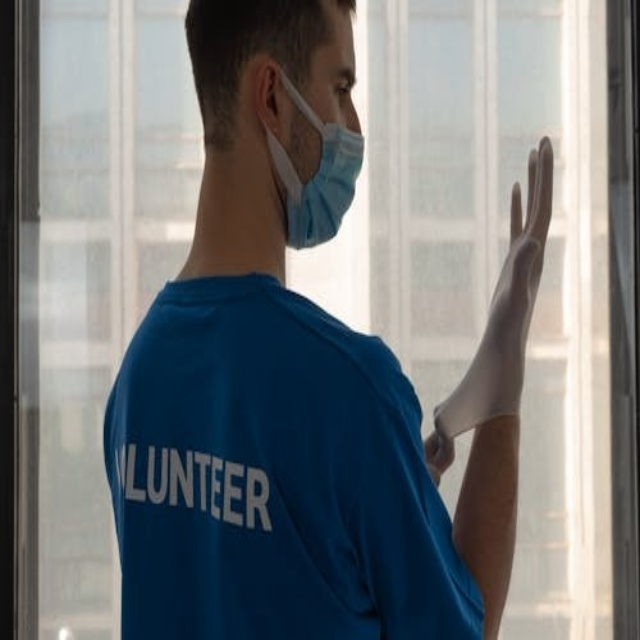Guantes: (431, 137, 553, 451)
Mascara: (263, 64, 363, 247)
Sin_gafas: (321, 48, 366, 113)
